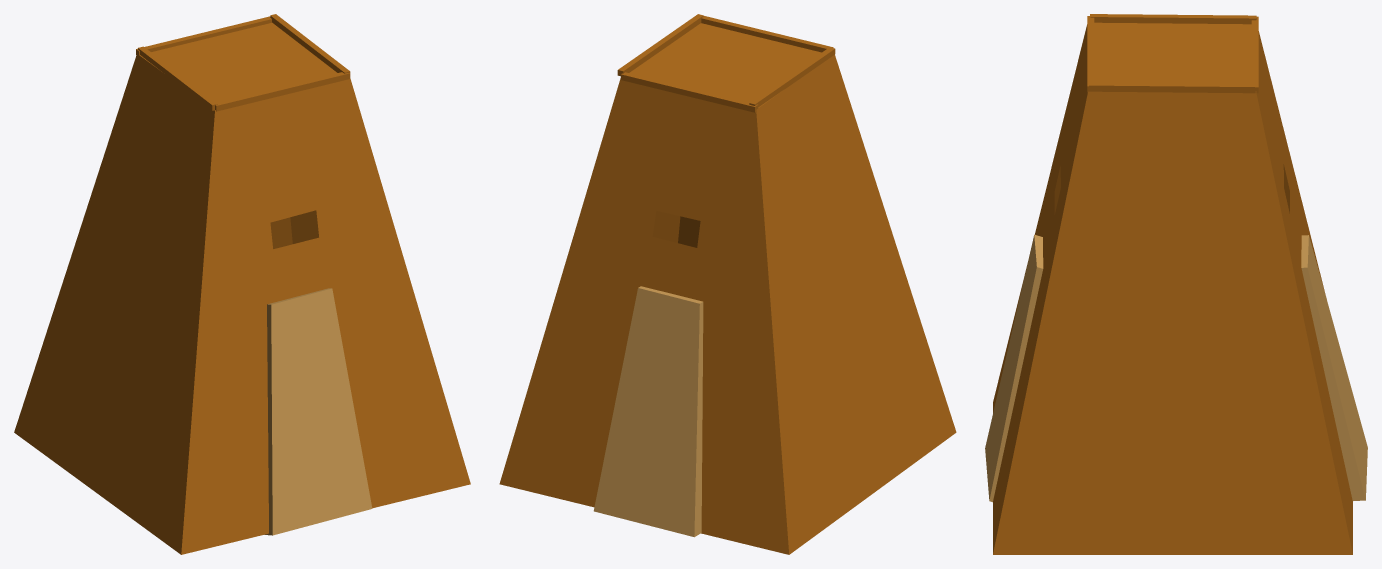
The model's file is casaegipcia.fbx.
3 renders of one model, left to right at view 1: azimuth 30°, elevation 25°; view 2: azimuth 150°, elevation 25°; view 3: azimuth 270°, elevation 25°, orthographic. The views are drawn at different scales.
Visible parts, largest first — view 1: Cube, Cube.001; view 2: Cube, Cube.001; view 3: Cube, Cube.001.
Part boxes in pixels (x1,y1,x2,y2): Cube: (14,14,470,554); Cube.001: (264,288,372,535); Cube: (499,14,956,554); Cube.001: (593,286,703,537); Cube: (993,14,1352,554); Cube.001: (985,234,1367,502).
Size of the model in its own units: 200 by 266 by 213.
